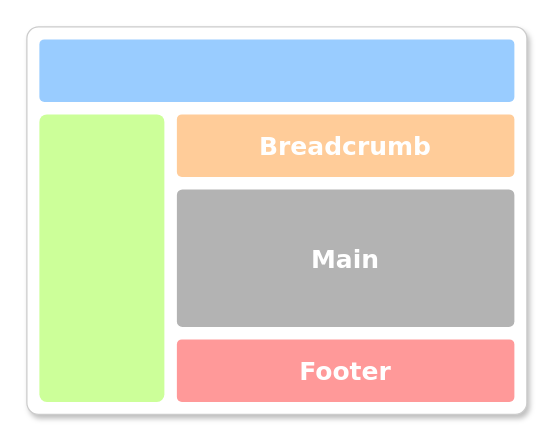
Image size: 556x445. Some labels were removed from this diagram. Here are the shapes that lost their labels. From the top down, the centre of each, then its label:
pixel 276 70: Header
pixel 101 257: Aside
